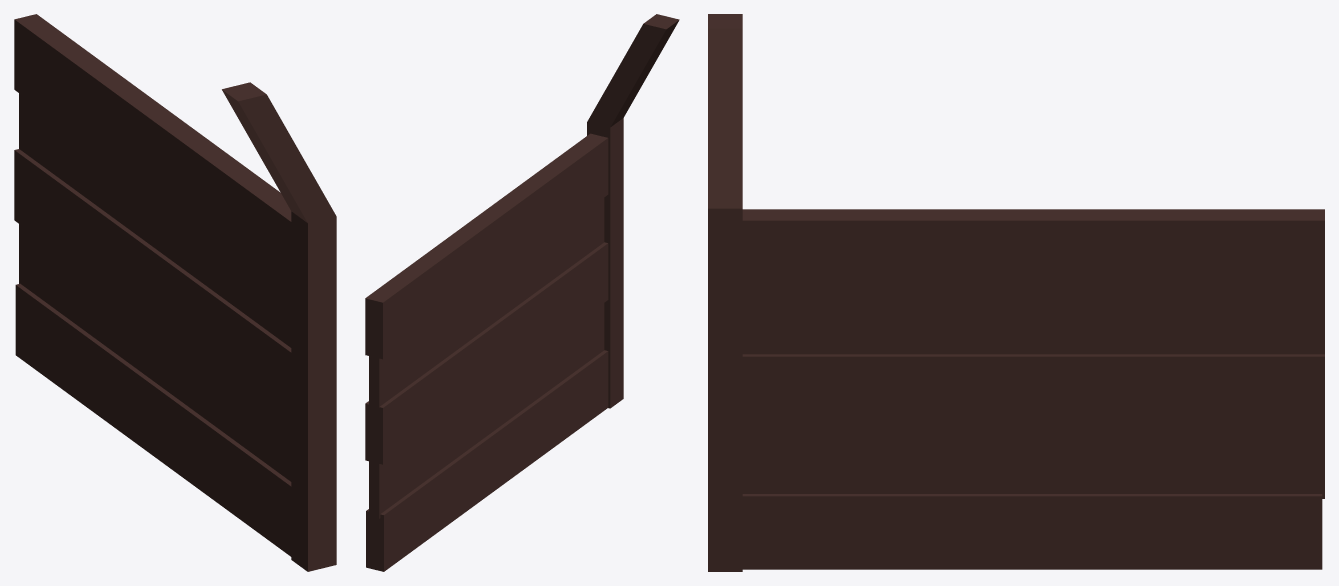
File: WallR.glb
3 views of the same model, side by side, from view 1: azimuth 30°, elevation 25°; view 2: azimuth 150°, elevation 25°; view 3: azimuth 270°, elevation 25° (orthographic). The views are drawn at different scales.
Visible parts, largest first — view 1: Wall.001; view 2: Wall.001; view 3: Wall.001.
Part boxes in pixels (x1=…): Wall.001: x1=14, y1=14, x2=336, y2=571; Wall.001: x1=365, y1=14, x2=679, y2=571; Wall.001: x1=708, y1=14, x2=1324, y2=571.
Size of the model in its own units: 2.93 by 13.86 by 15.24.
